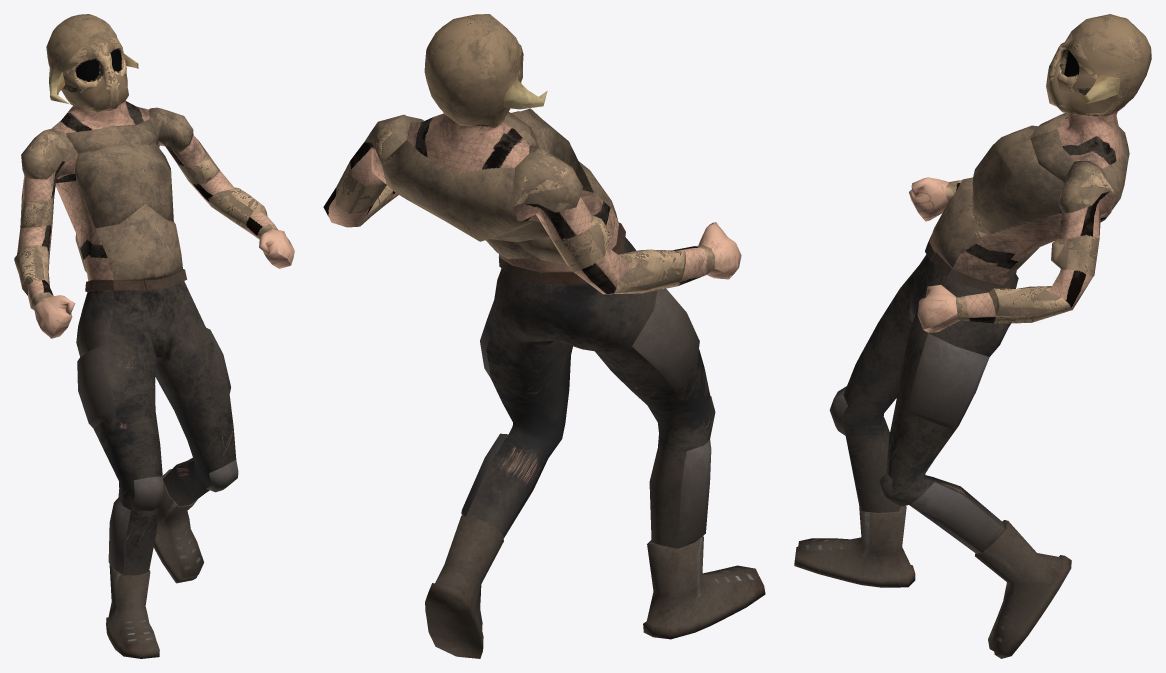
Rendered from Anim_morir_npc1.0027.obj.
3 renders of one model, left to right at view 1: azimuth 30°, elevation 25°; view 2: azimuth 150°, elevation 25°; view 3: azimuth 270°, elevation 25°, orthographic. The views are drawn at different scales.
Visible parts, largest first — view 1: NPC2; view 2: NPC2; view 3: NPC2.
Boxes of the visible parts, x1=… form: NPC2: x1=14, y1=14, x2=294, y2=658; NPC2: x1=323, y1=14, x2=765, y2=658; NPC2: x1=794, y1=14, x2=1151, y2=658.
Size of the model in its own units: 4.35 by 8.71 by 4.65.
